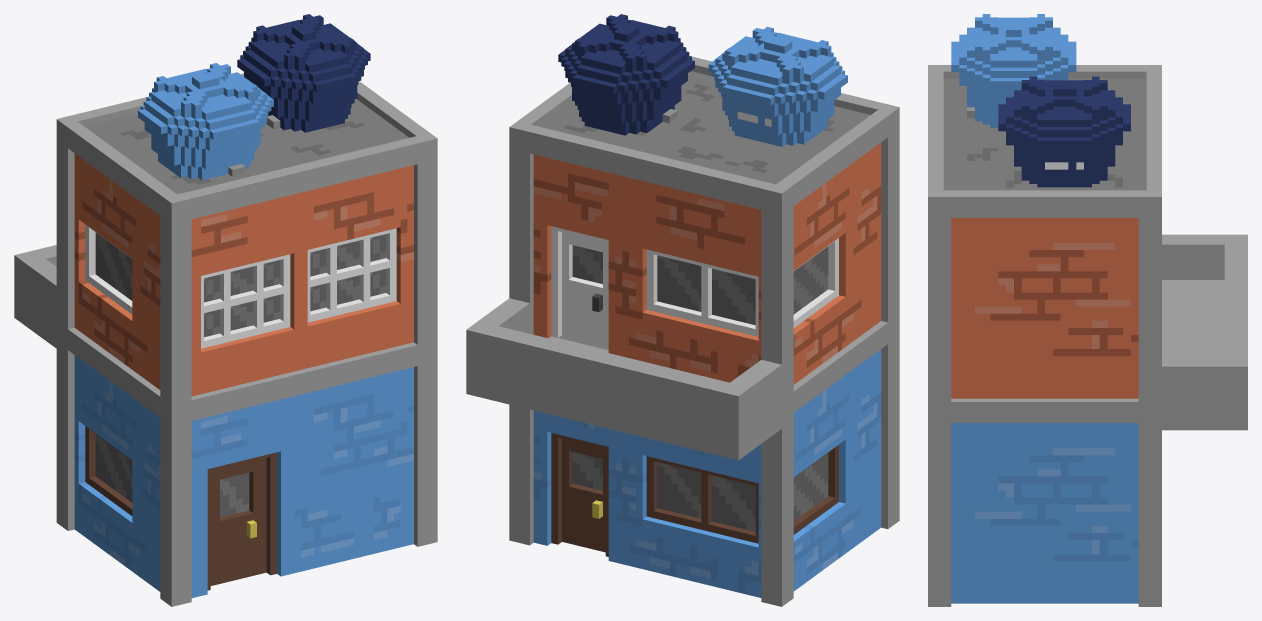
File: variaçõesdecorcasa-4.obj
The picture shows the model from 3 angles, left to right: view 1: azimuth 30°, elevation 25°; view 2: azimuth 150°, elevation 25°; view 3: azimuth 270°, elevation 25°; orthographic projection. The views are drawn at different scales.
Size of the model in its own units: 4 by 6.9 by 4.1.
1 material, 1 textured.
